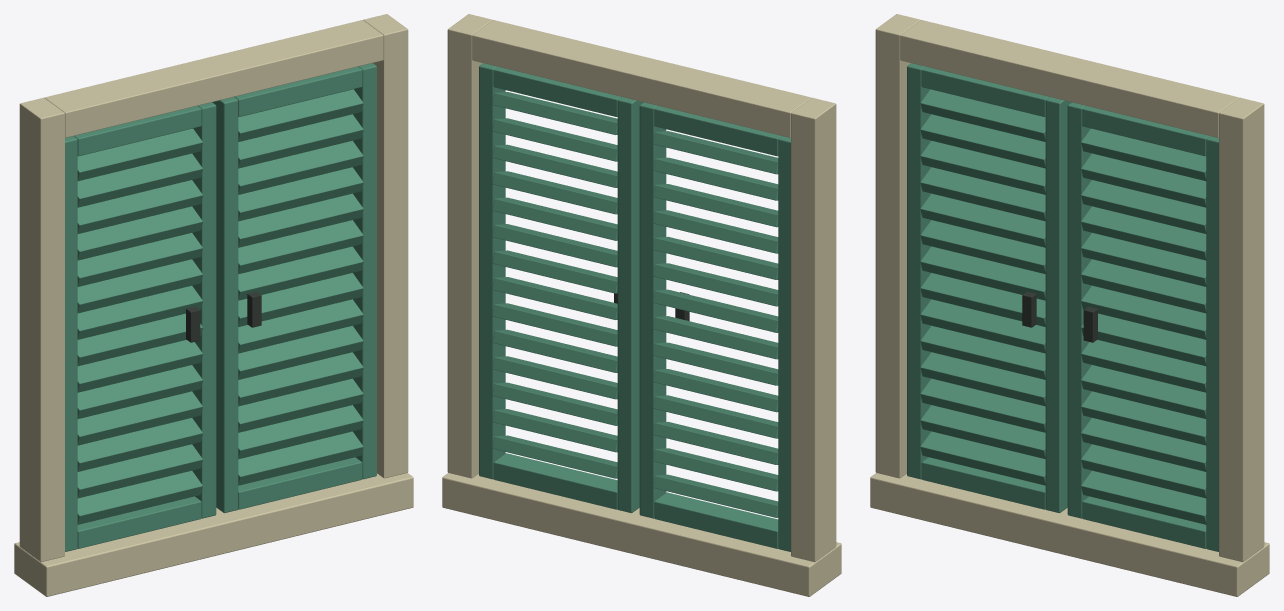
3 views of the same model, side by side, from view 1: azimuth 30°, elevation 25°; view 2: azimuth 150°, elevation 25°; view 3: azimuth 330°, elevation 25° (orthographic).
Visible parts, largest first — view 1: FRAME_Jamb, FRAME_Sill, FRAME_Head, FRAME_Jamb.001, Right_Stile.001, Left_Stile.001, Right_Stile, Left_Stile, Left_Louver_12, Left_Louver_8, Left_Louver_1, Left_Louver_10 (+28 smaller); view 2: FRAME_Jamb, FRAME_Sill, FRAME_Head, FRAME_Jamb.001, Right_Stile.001, Left_Stile.001, Right_Stile, Left_Stile, Left_Rail, Right_Rail, Left_Rail.001, Right_Rail.001 (+28 smaller); view 3: FRAME_Jamb.001, FRAME_Sill, FRAME_Head, FRAME_Jamb, Left_Stile.001, Right_Stile.001, Left_Stile, Right_Stile, Right_Louver_12, Right_Louver_8, Right_Louver_1, Right_Louver_10 (+28 smaller).
Boxes of the visible parts, bbox=[...] form: FRAME_Jamb: bbox=[19, 97, 64, 562]; FRAME_Sill: bbox=[14, 473, 413, 596]; FRAME_Head: bbox=[44, 20, 383, 137]; FRAME_Jamb.001: bbox=[363, 14, 408, 478]; Right_Stile.001: bbox=[212, 97, 238, 513]; Left_Stile.001: bbox=[192, 102, 216, 518]; Right_Stile: bbox=[353, 63, 376, 479]; Left_Stile: bbox=[65, 136, 77, 551]; Left_Louver_12: bbox=[77, 153, 202, 207]; Left_Louver_8: bbox=[77, 259, 202, 313]; Left_Louver_1: bbox=[77, 444, 202, 498]; Left_Louver_10: bbox=[77, 206, 202, 260]; FRAME_Jamb: bbox=[791, 97, 836, 562]; FRAME_Sill: bbox=[442, 473, 841, 596]; FRAME_Head: bbox=[472, 20, 811, 137]; FRAME_Jamb.001: bbox=[447, 14, 492, 478]; Right_Stile.001: bbox=[617, 97, 643, 513]; Left_Stile.001: bbox=[639, 102, 666, 518]; Right_Stile: bbox=[479, 63, 505, 479]; Left_Stile: bbox=[778, 136, 790, 551]; Left_Rail: bbox=[654, 492, 778, 548]; Right_Rail: bbox=[493, 453, 617, 509]; Left_Rail.001: bbox=[654, 106, 781, 156]; Right_Rail.001: bbox=[493, 66, 621, 116]; FRAME_Jamb.001: bbox=[1219, 97, 1264, 562]; FRAME_Sill: bbox=[870, 473, 1269, 596]; FRAME_Head: bbox=[900, 20, 1239, 137]; FRAME_Jamb: bbox=[875, 14, 920, 478]; Left_Stile.001: bbox=[1045, 97, 1071, 513]; Right_Stile.001: bbox=[1067, 102, 1091, 518]; Left_Stile: bbox=[907, 63, 930, 479]; Right_Stile: bbox=[1206, 136, 1218, 551]; Right_Louver_12: bbox=[1081, 153, 1206, 207]; Right_Louver_8: bbox=[1081, 259, 1206, 313]; Right_Louver_1: bbox=[1081, 444, 1206, 498]; Right_Louver_10: bbox=[1081, 206, 1206, 260].
Bounding box in the file's own units: 1.5 × 1.85 × 0.23.
